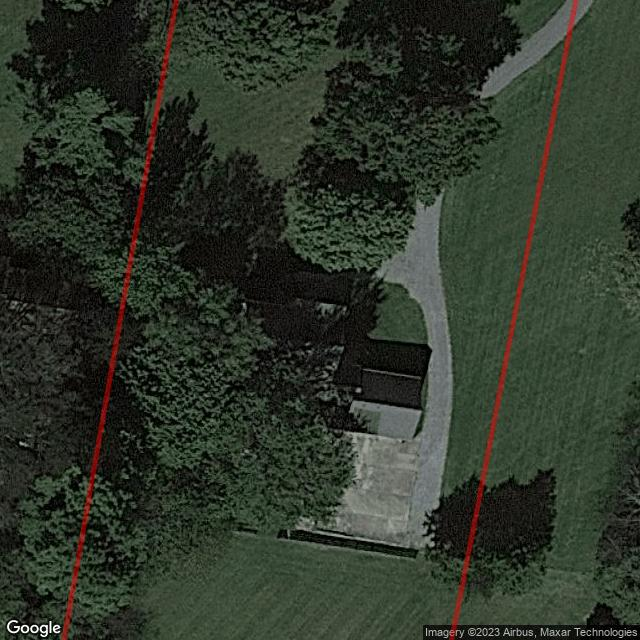Driveway: (328, 195, 452, 547), (481, 0, 570, 98)
House: (232, 284, 424, 439)
